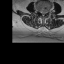CCS_normal: (42, 8, 44, 18)
LFS_normal: (46, 8, 48, 15)
LLS_normal: (44, 9, 46, 16)
RFS_stenosis: (38, 8, 40, 14)
RLS_normal: (40, 9, 42, 15)
